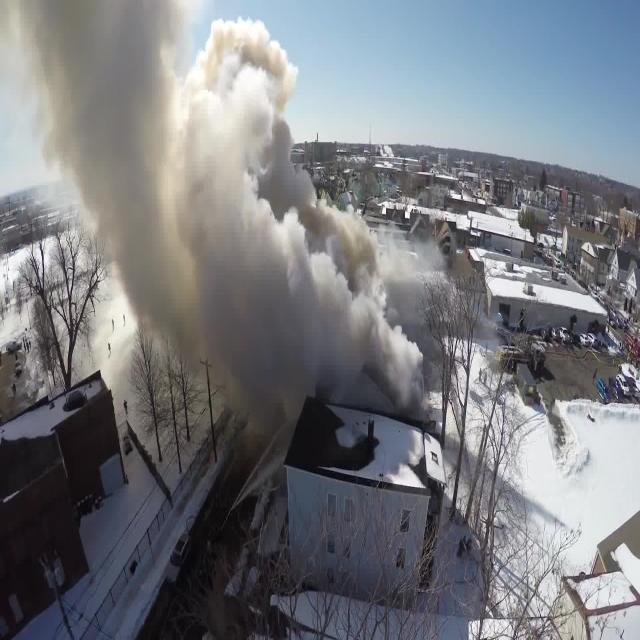Smoke: (0, 0, 424, 412)
